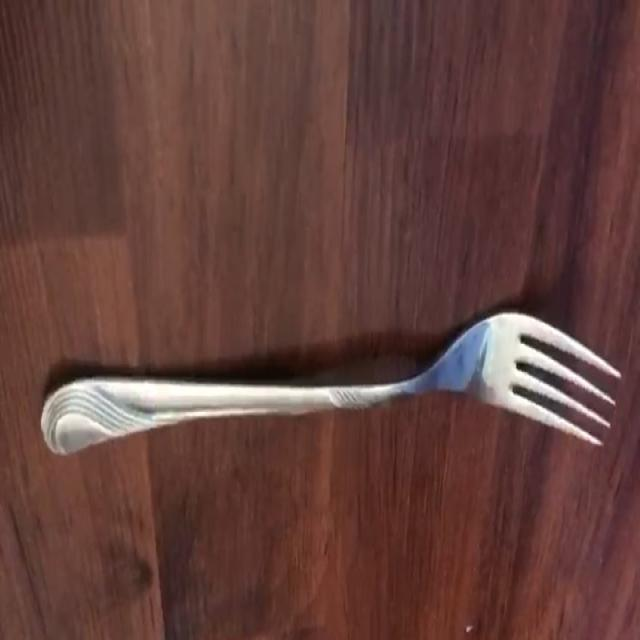spoon: (41, 314, 621, 454)
